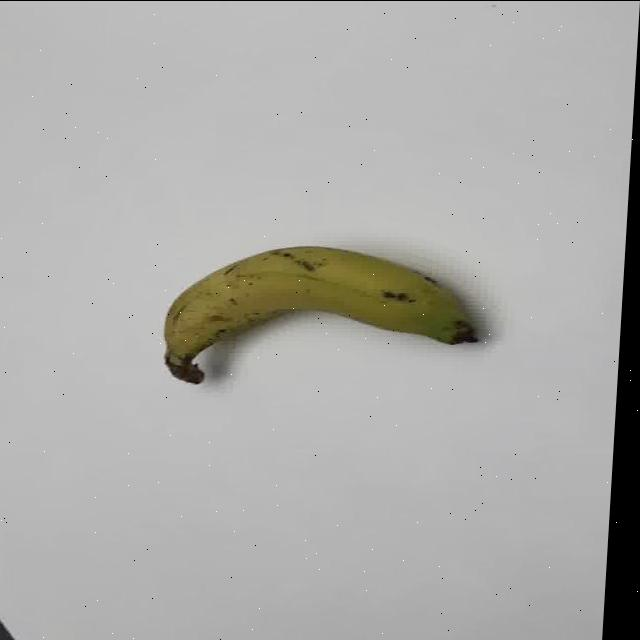banana: (155, 246, 487, 386)
